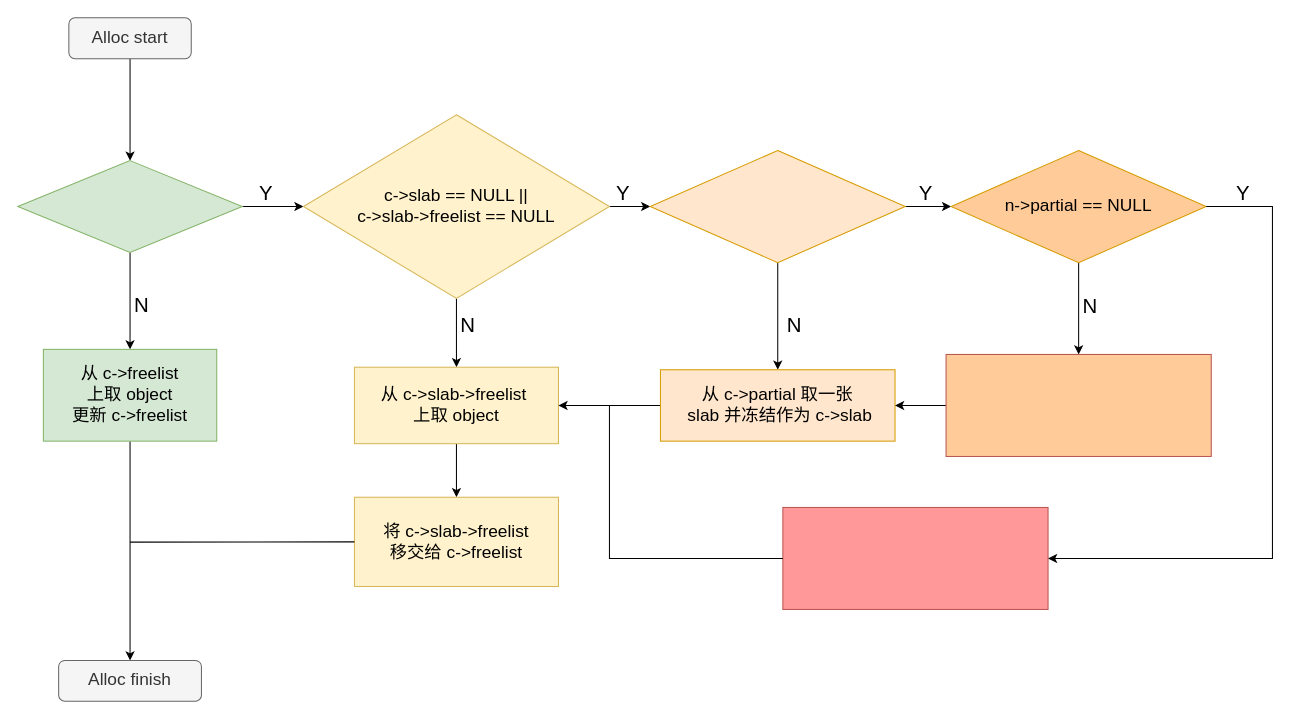
Some shapes in this 1298 by 719 pixel diagram are drawn without their labels. The shapes that lost their labels are listed below. From the top down, each one's centre as x and y in pixels, then its label:
At (129,206): "c->freelist == NULL".
At (777,206): "c->partial == NULL".
At (1078,404): "将 n->partial 上的最多 s->cpu_partial_slabs / 2 个 slab 迁移到 c->partial 上".
At (915,557): "向 page allocator 请求页 作为 slab 并初始化，冻结 这张 slab 作为 c->slab".
